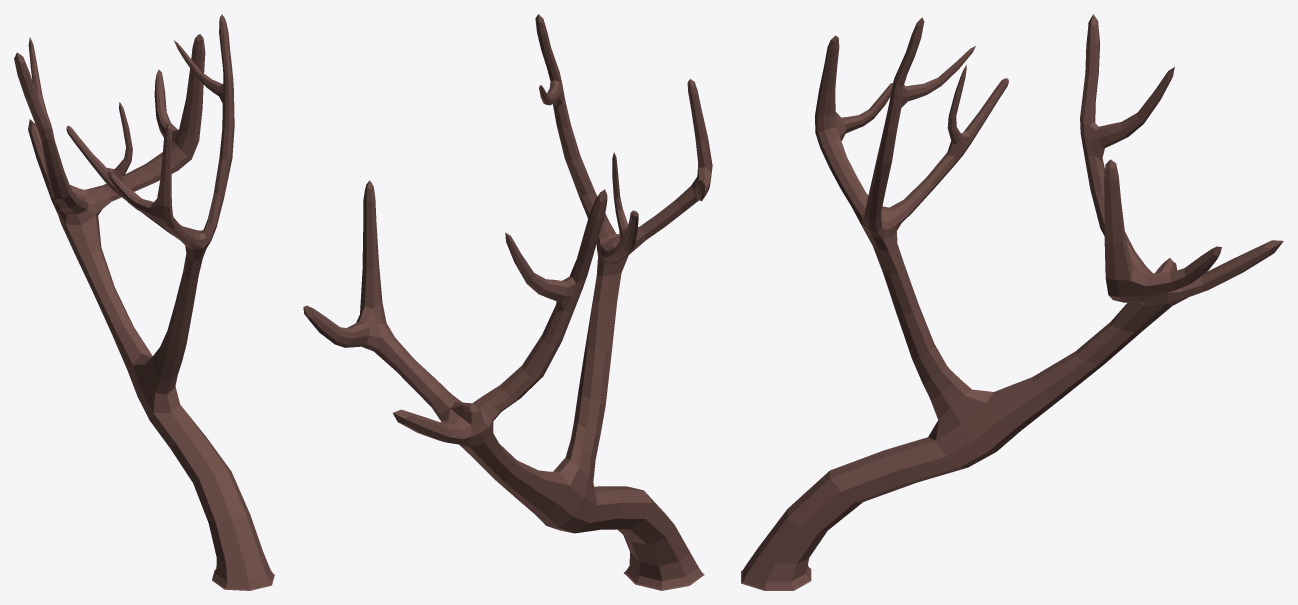
The model's file is Willow_Dead_2.glb.
3 views of the same model, side by side, from view 1: azimuth 30°, elevation 25°; view 2: azimuth 150°, elevation 25°; view 3: azimuth 270°, elevation 25° (orthographic). The views are drawn at different scales.
Visible parts, largest first — view 1: Willow_Dead_2; view 2: Willow_Dead_2; view 3: Willow_Dead_2.
Boxes of the visible parts, left/top/right/bottom form: Willow_Dead_2: left=14, top=14, right=274, bottom=590; Willow_Dead_2: left=303, top=14, right=712, bottom=590; Willow_Dead_2: left=741, top=14, right=1283, bottom=590.
Size of the model in its own units: 1.17 by 2.84 by 2.4.
